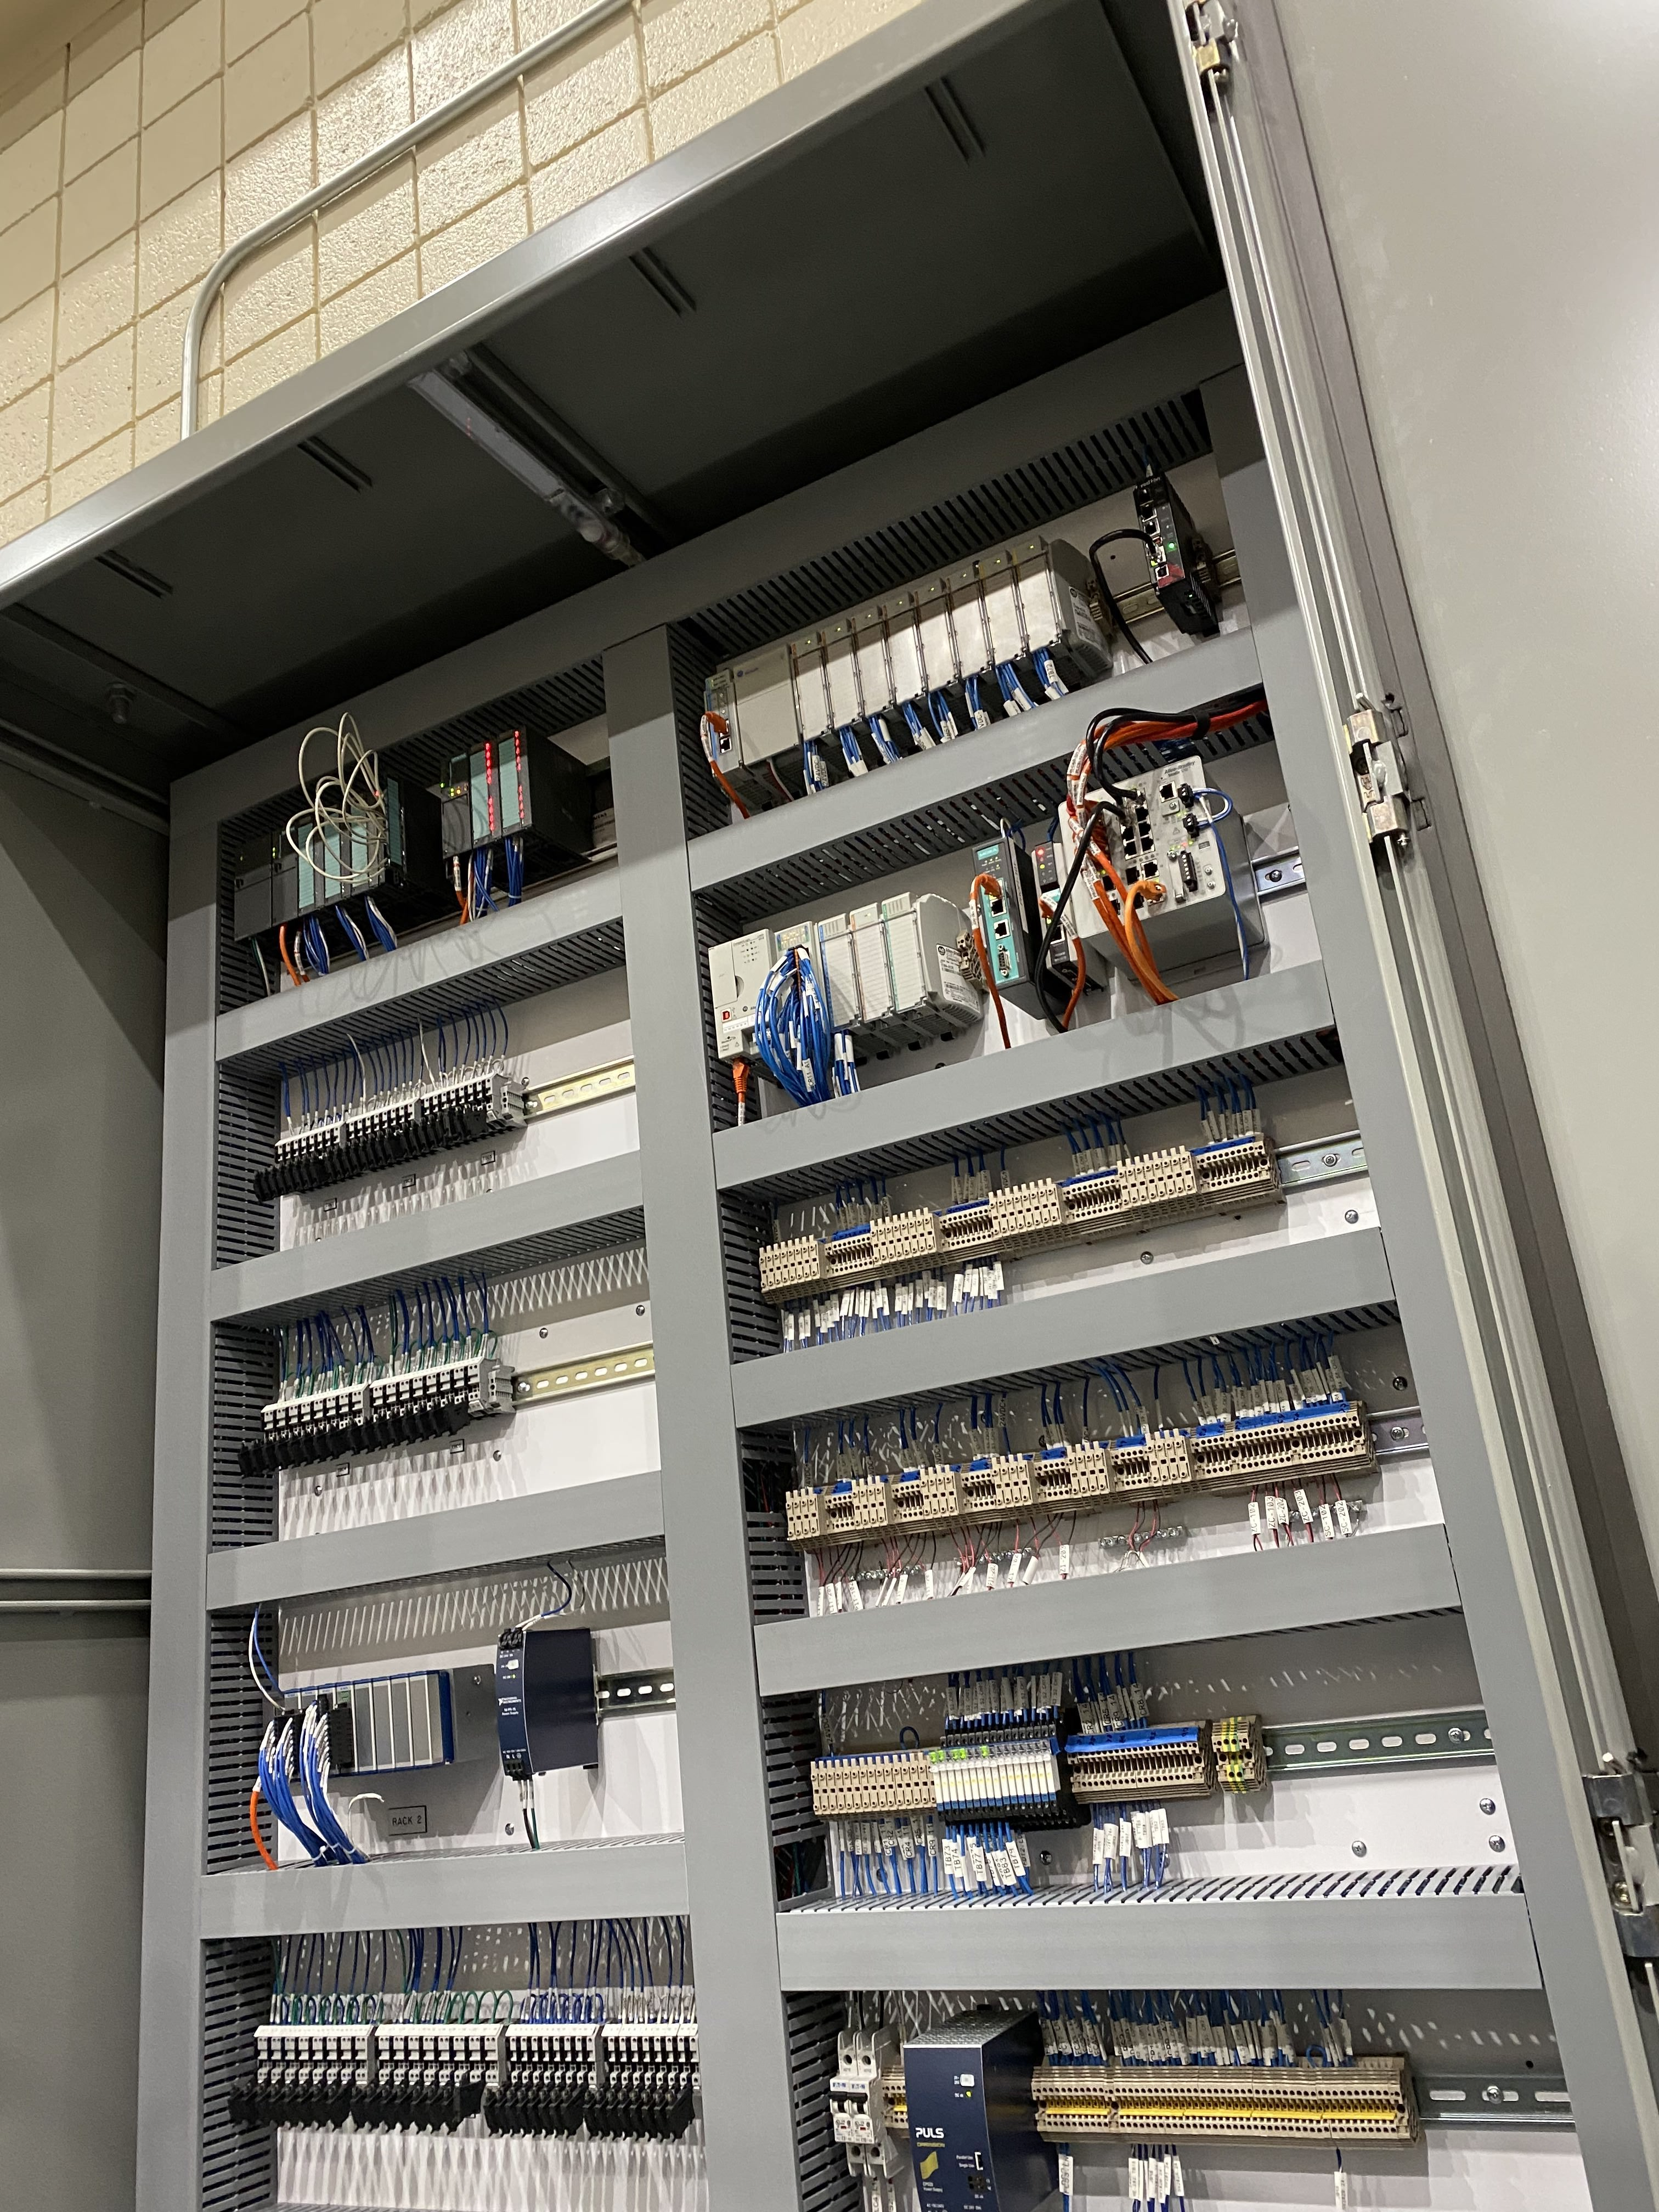AllenBradley: (702, 920, 781, 1061)
Siemens: (268, 810, 301, 930)
